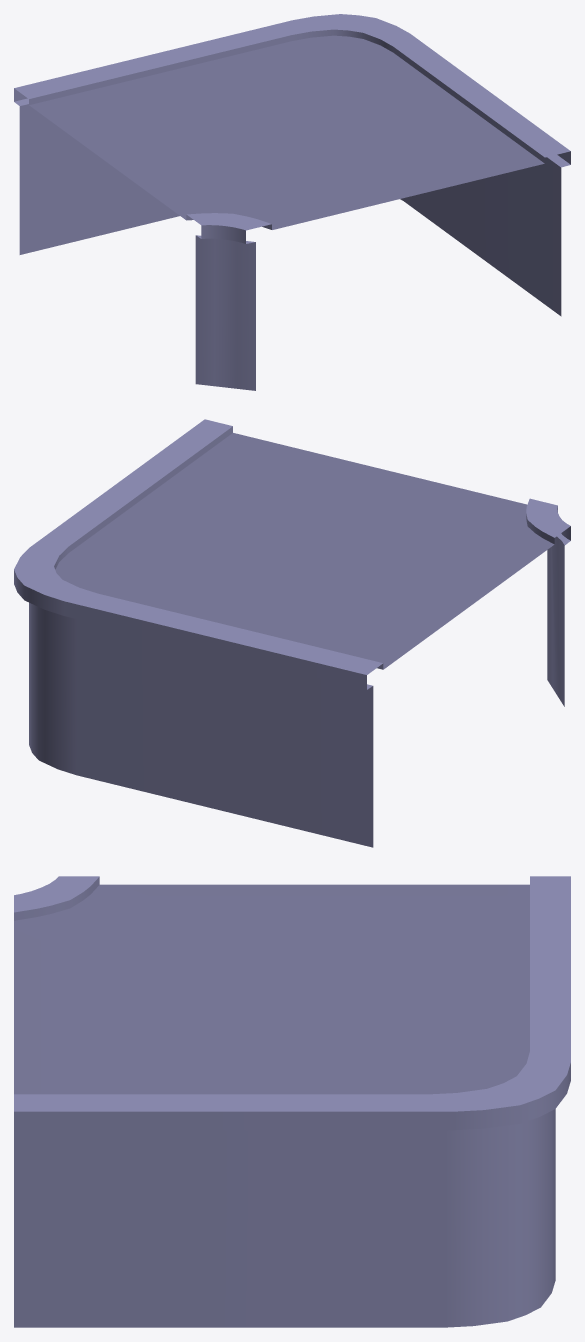
Rendered from Wall_Corner_Corner.fbx.
The picture shows the model from 3 angles, top to bottom: view 1: azimuth 30°, elevation 25°; view 2: azimuth 150°, elevation 25°; view 3: azimuth 270°, elevation 25°; orthographic projection. The views are drawn at different scales.
Parts seen in each view (by area): view 1: Wall_Corner_Corner; view 2: Wall_Corner_Corner; view 3: Wall_Corner_Corner.
Boxes of the visible parts, x1,y1,x2,y2 form: Wall_Corner_Corner: (14,14,570,390); Wall_Corner_Corner: (14,419,570,847); Wall_Corner_Corner: (14,876,570,1327).
Size of the model in its own units: 231 by 102 by 231.
